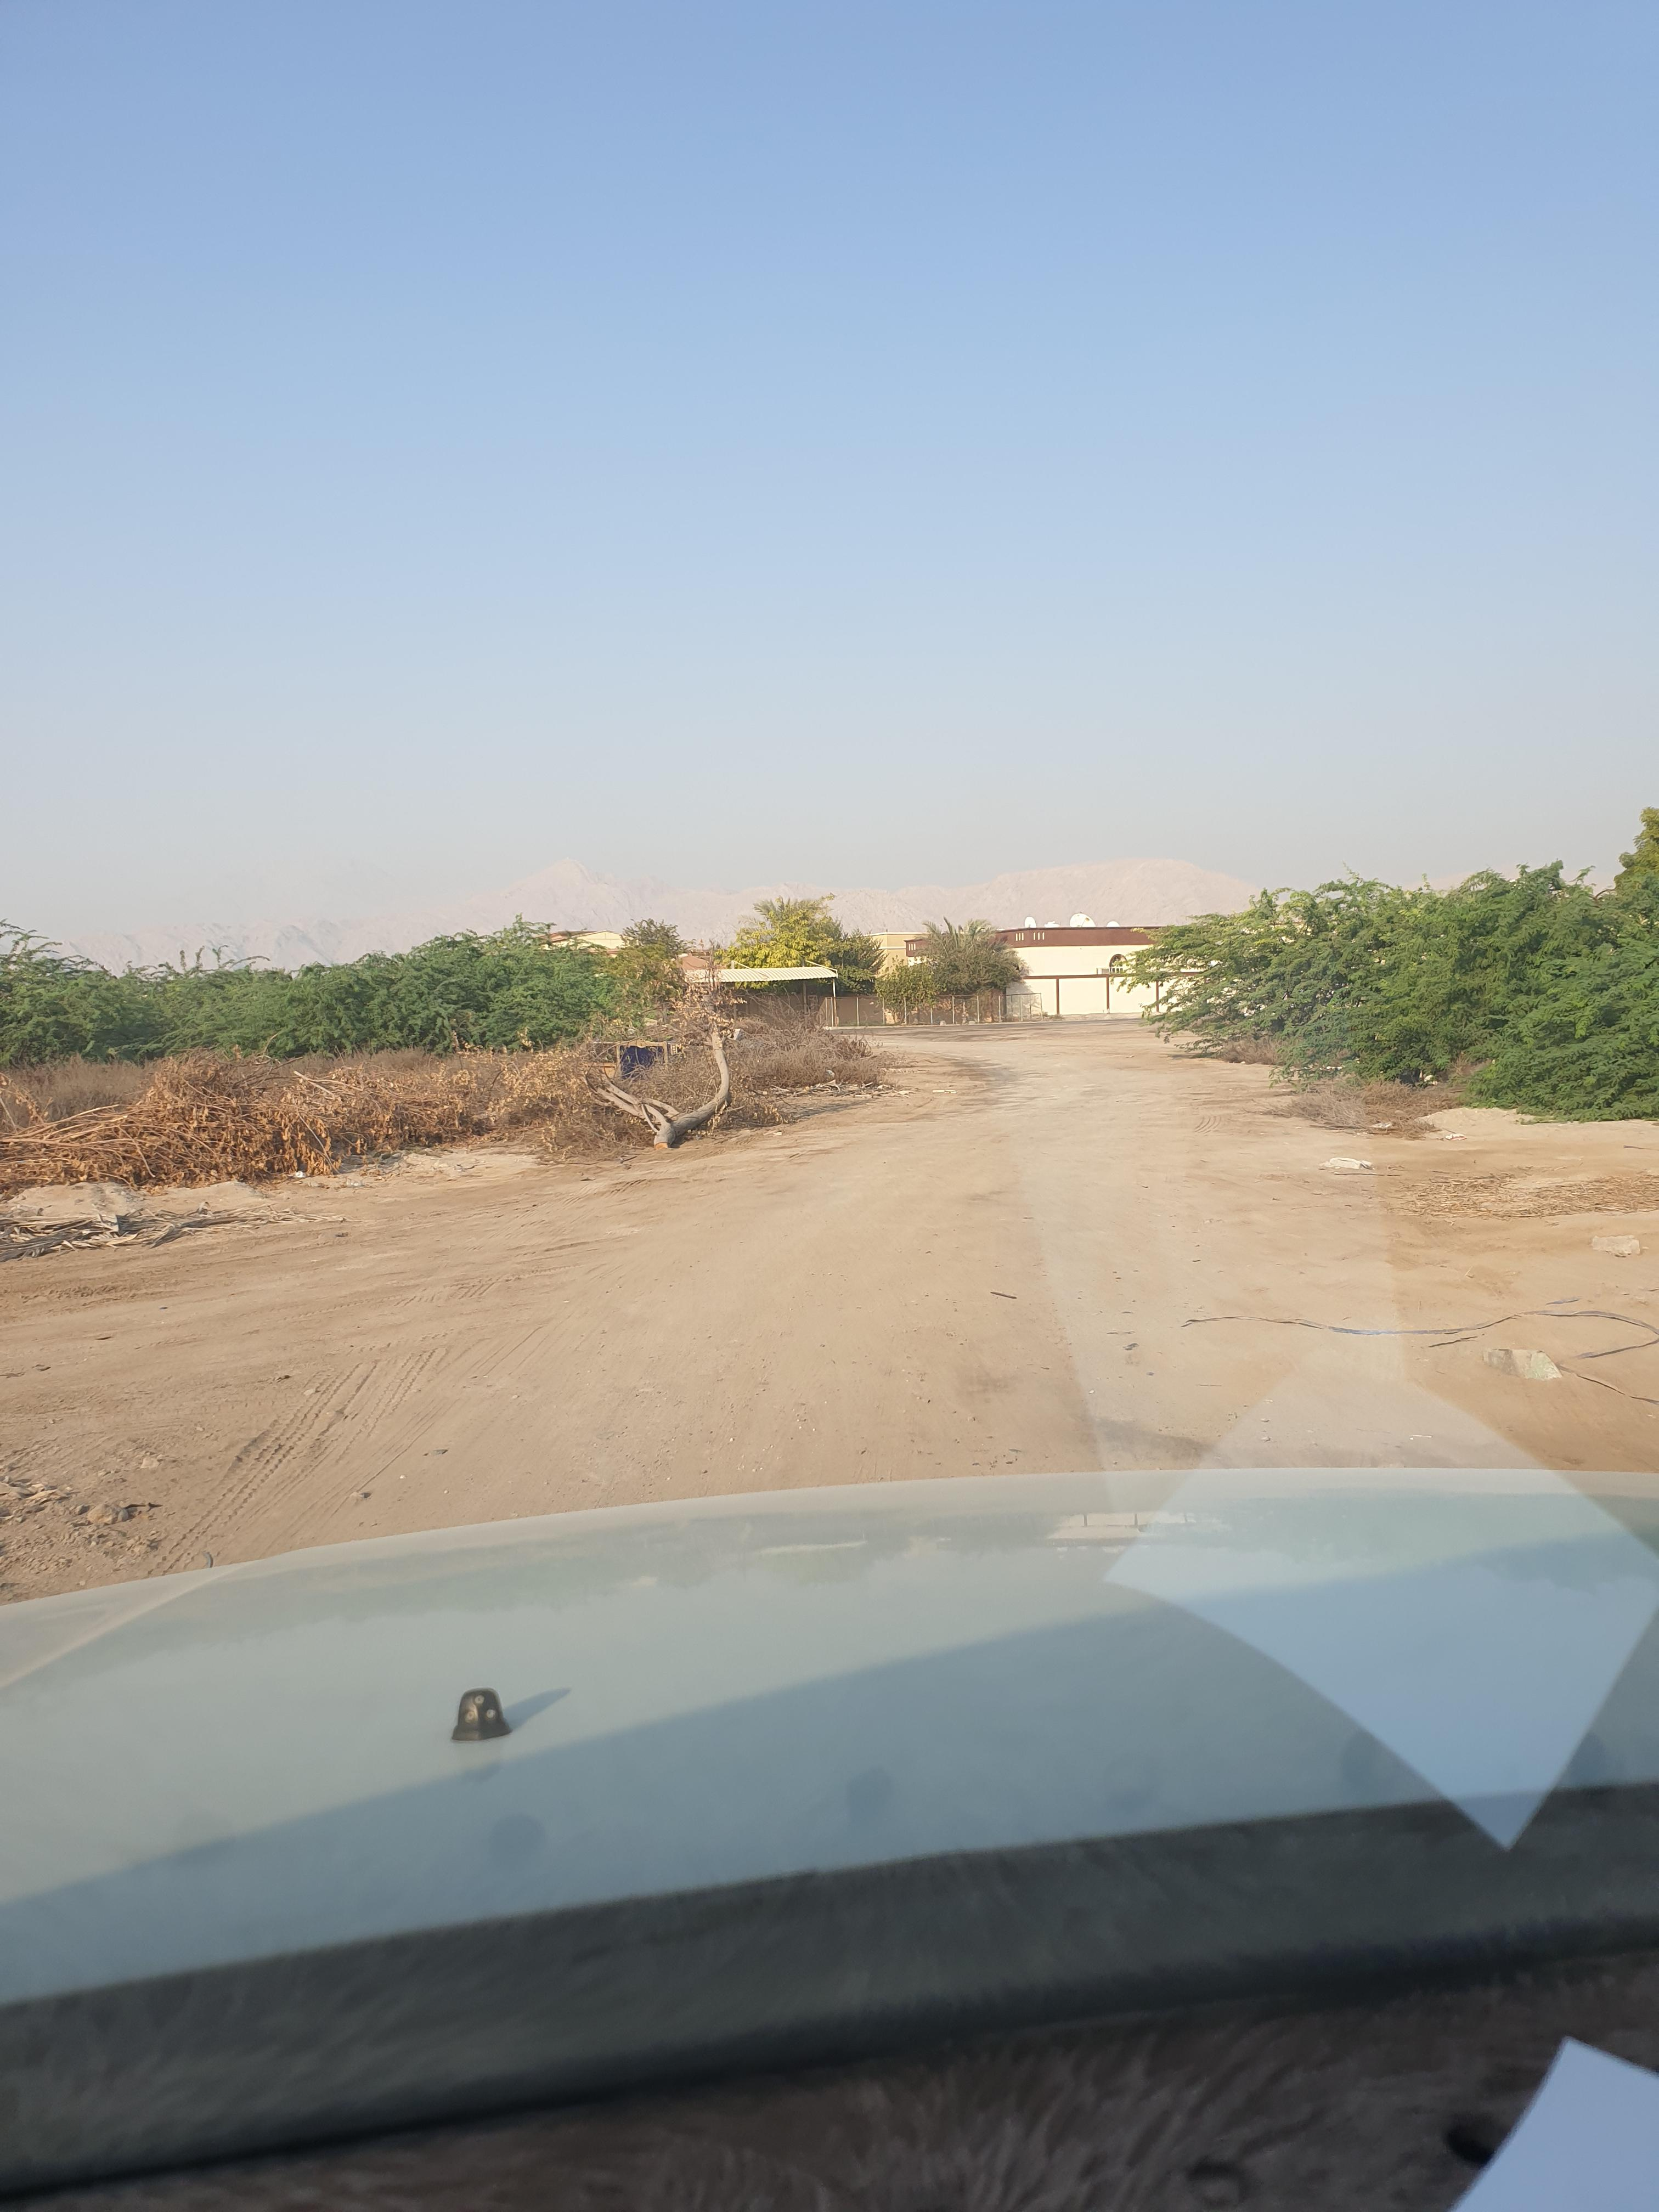fallen_trees: (317, 1087, 580, 1212), (525, 1083, 786, 1179)
